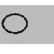no answer: (0, 11, 30, 36)
